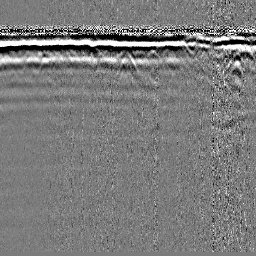cavity: (116, 49, 141, 75)
